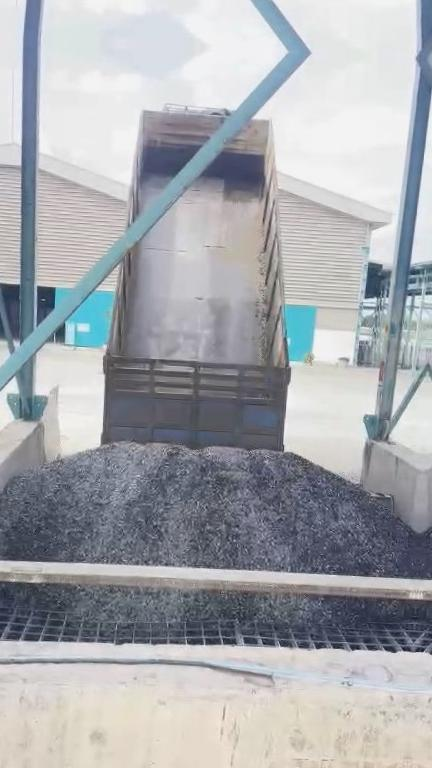gravel: (0, 443, 420, 578), (0, 582, 416, 627)
